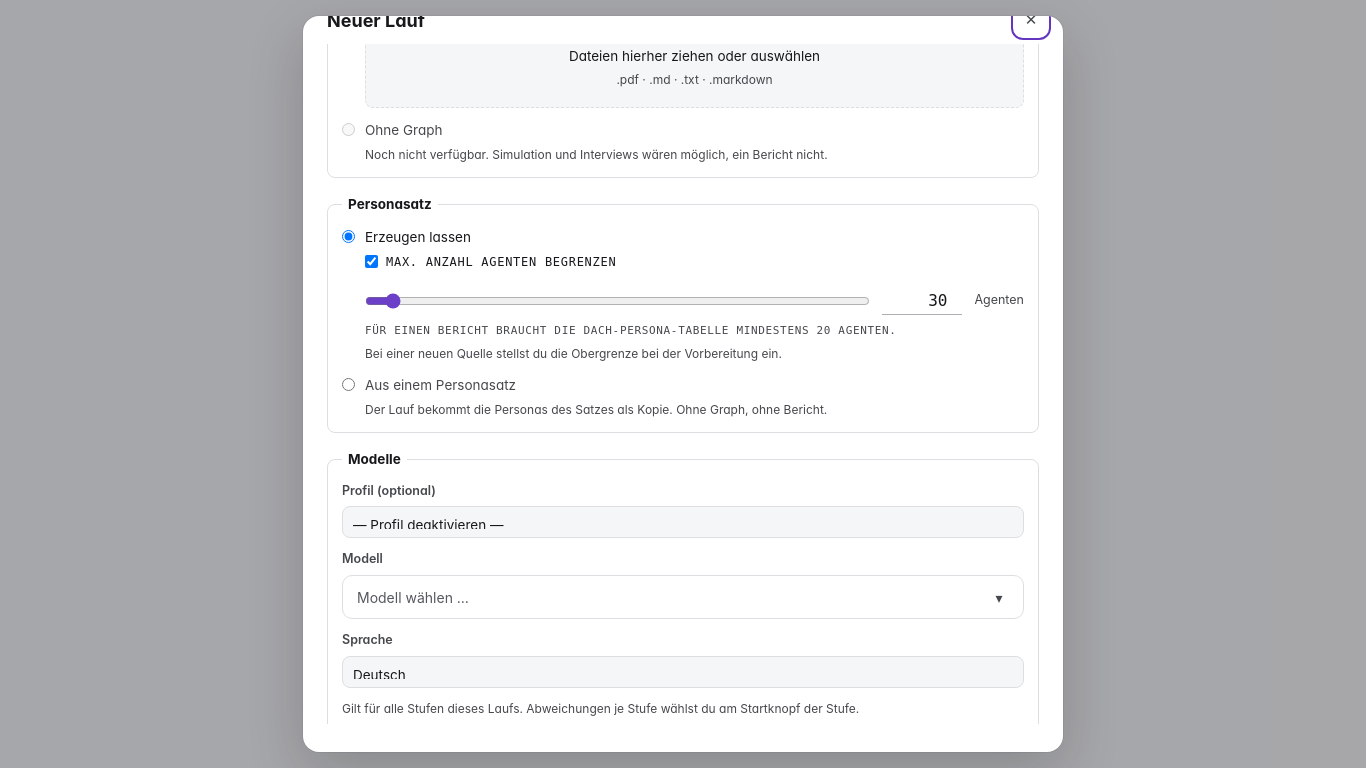
NewRunDialog — Aufbau › Personasatz wählen (#1807) › sagt, wenn es keinen brauchbaren Satz gibt
(page scrolled)
Click the radio button named "persona-mode". click: {"x": 348, "y": 384}
box: [342, 378, 355, 391]
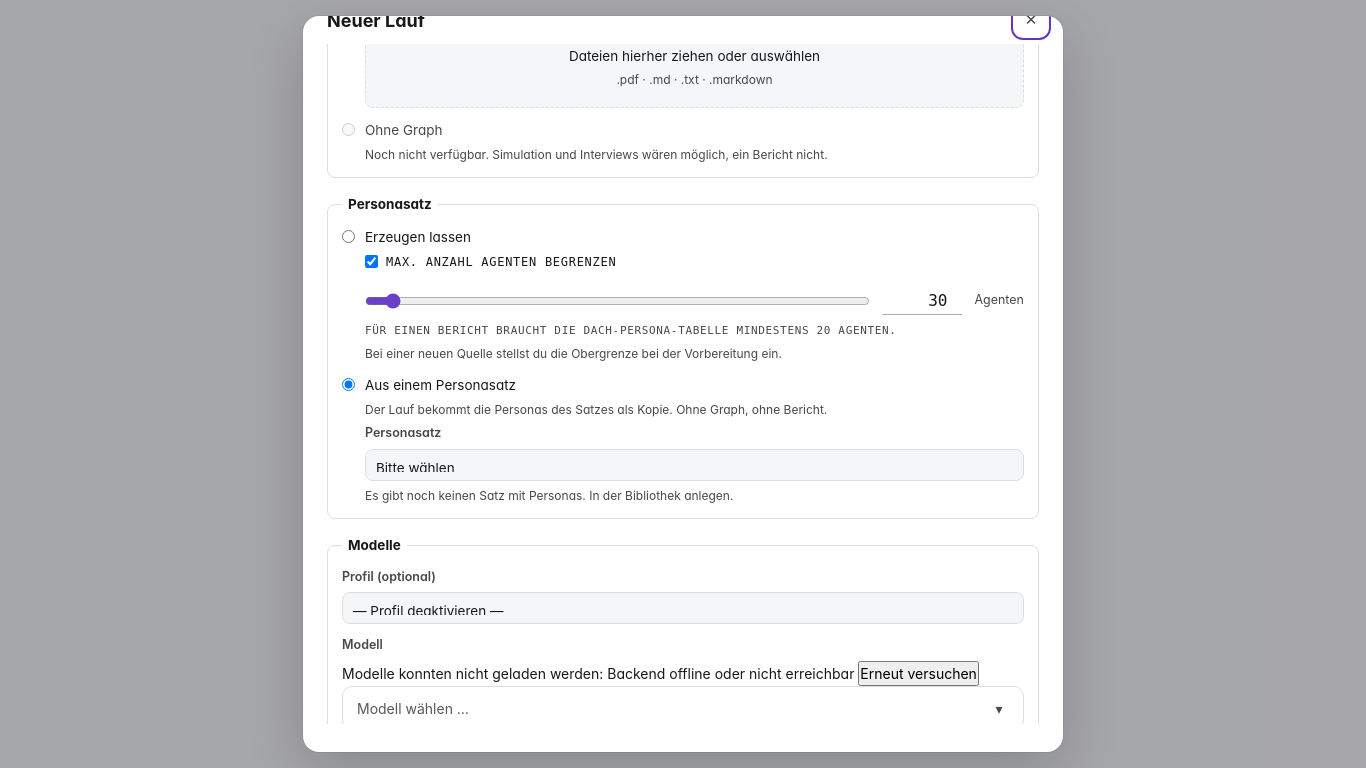
Expected: the element that starts with "Aus einem Personasatz" shows "Es gibt noch keinen Satz mit Personas", [365, 488, 733, 503]
